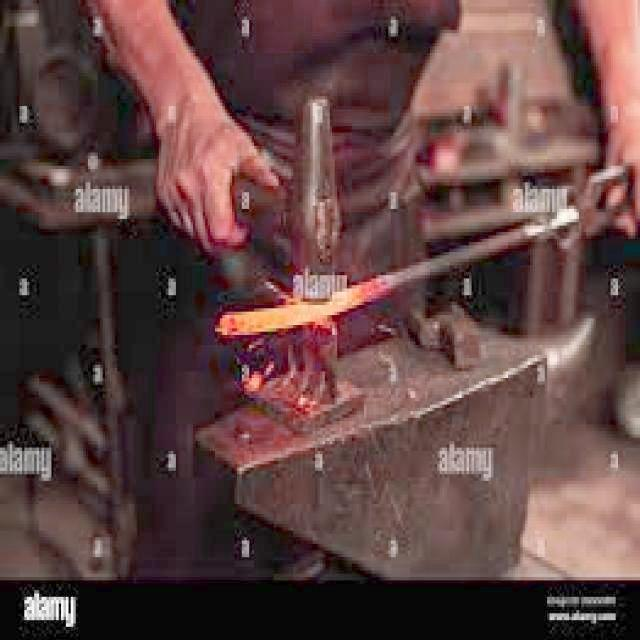hammer: (222, 83, 342, 322)
